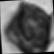correct: (4, 0, 54, 54)
